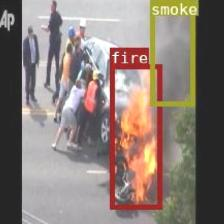fire: (109, 63, 161, 208)
smoke: (149, 0, 194, 104)
